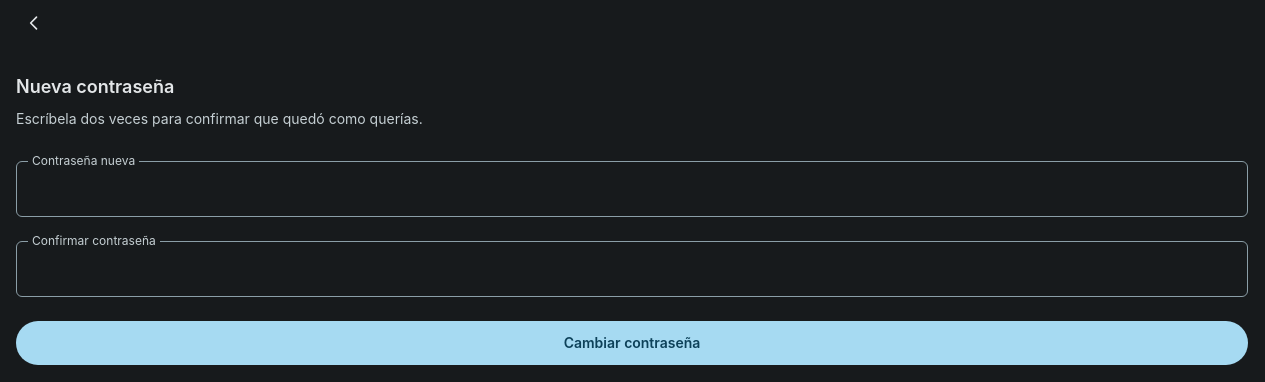
Test: ResetPassword › manda uid y token de la URL junto con las dos contraseñas
Type "NuevaClave123!" into the password field labelled "Contraseña nueva" at [632, 189], box [16,161,1248,217]
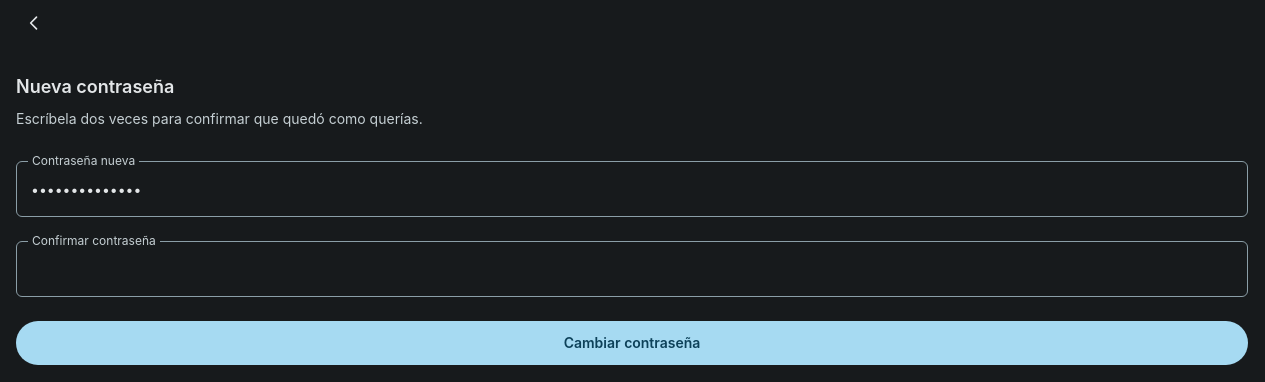
Type "NuevaClave123!" into the password field labelled "Confirmar contraseña" at [632, 269], box [16,241,1248,297]
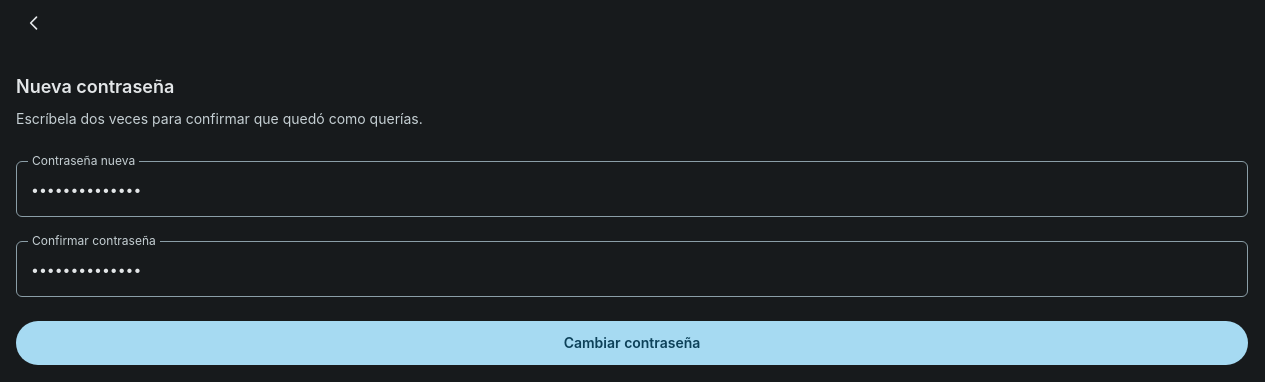
Click the button "Cambiar contraseña" at [632, 343], box [16,321,1248,365]
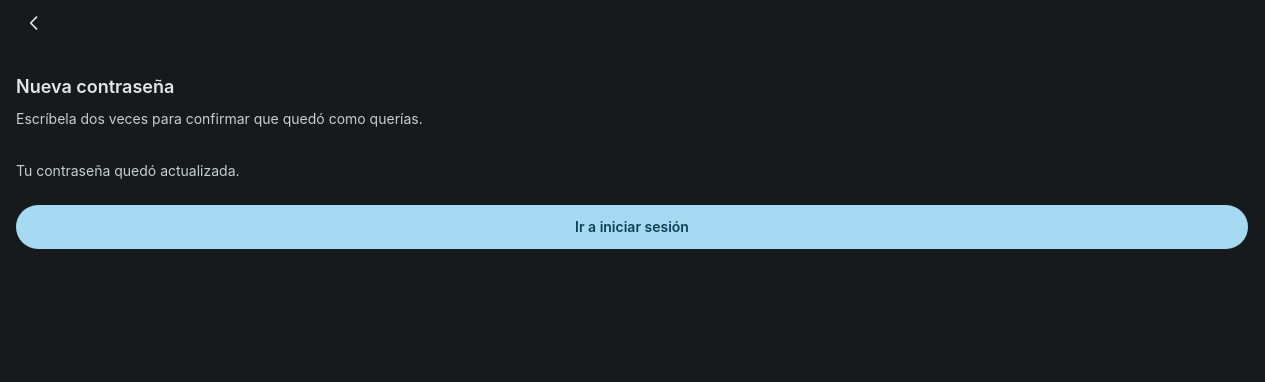
Check: the message reads "Tu contraseña quedó actualizada.", box [16,162,240,179]
